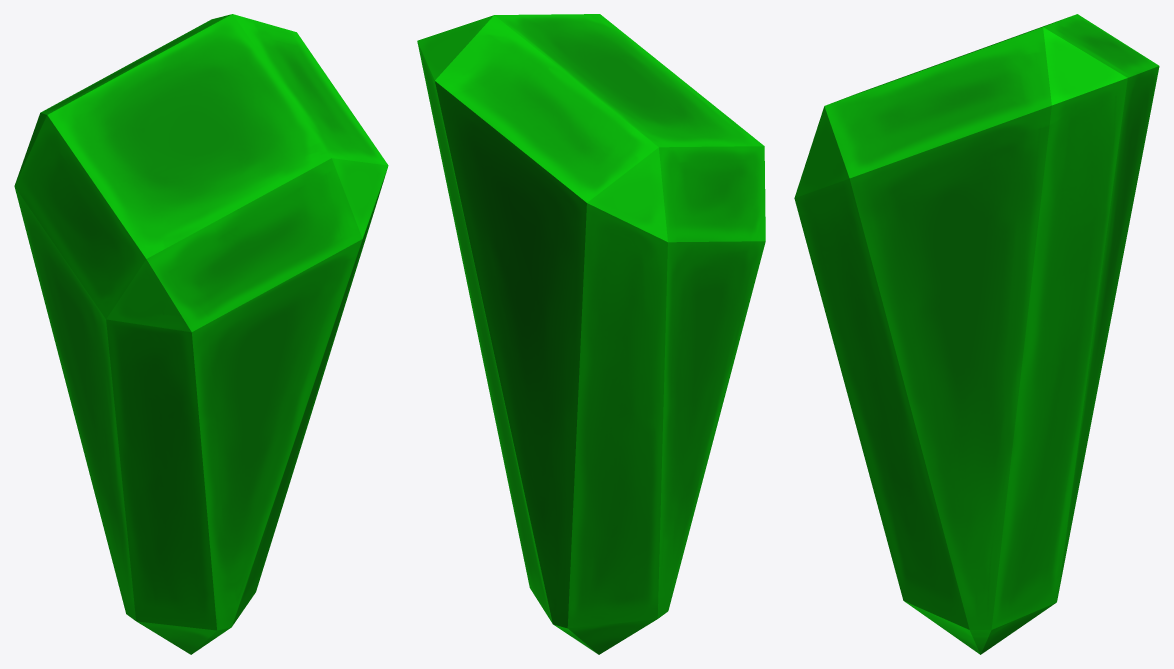
The model's file is GemSq.fbx.
3 views of the same model, side by side, from view 1: azimuth 30°, elevation 25°; view 2: azimuth 150°, elevation 25°; view 3: azimuth 270°, elevation 25° (orthographic). The views are drawn at different scales.
Visible parts, largest first — view 1: GemSq; view 2: GemSq; view 3: GemSq.
Boxes of the visible parts, bbox=[...] form: GemSq: bbox=[14, 14, 388, 654]; GemSq: bbox=[417, 14, 765, 654]; GemSq: bbox=[794, 14, 1159, 654].
Bounding box in the file's own units: 69.11 × 154 × 76.57.
1 material, 1 textured.
